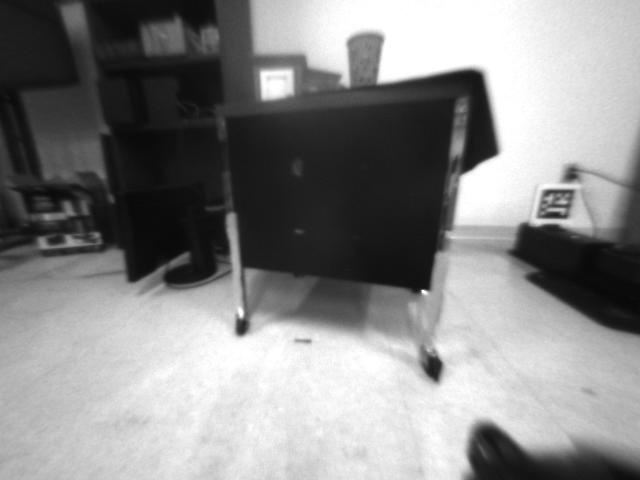coffee_cup: (342, 32, 387, 87)
